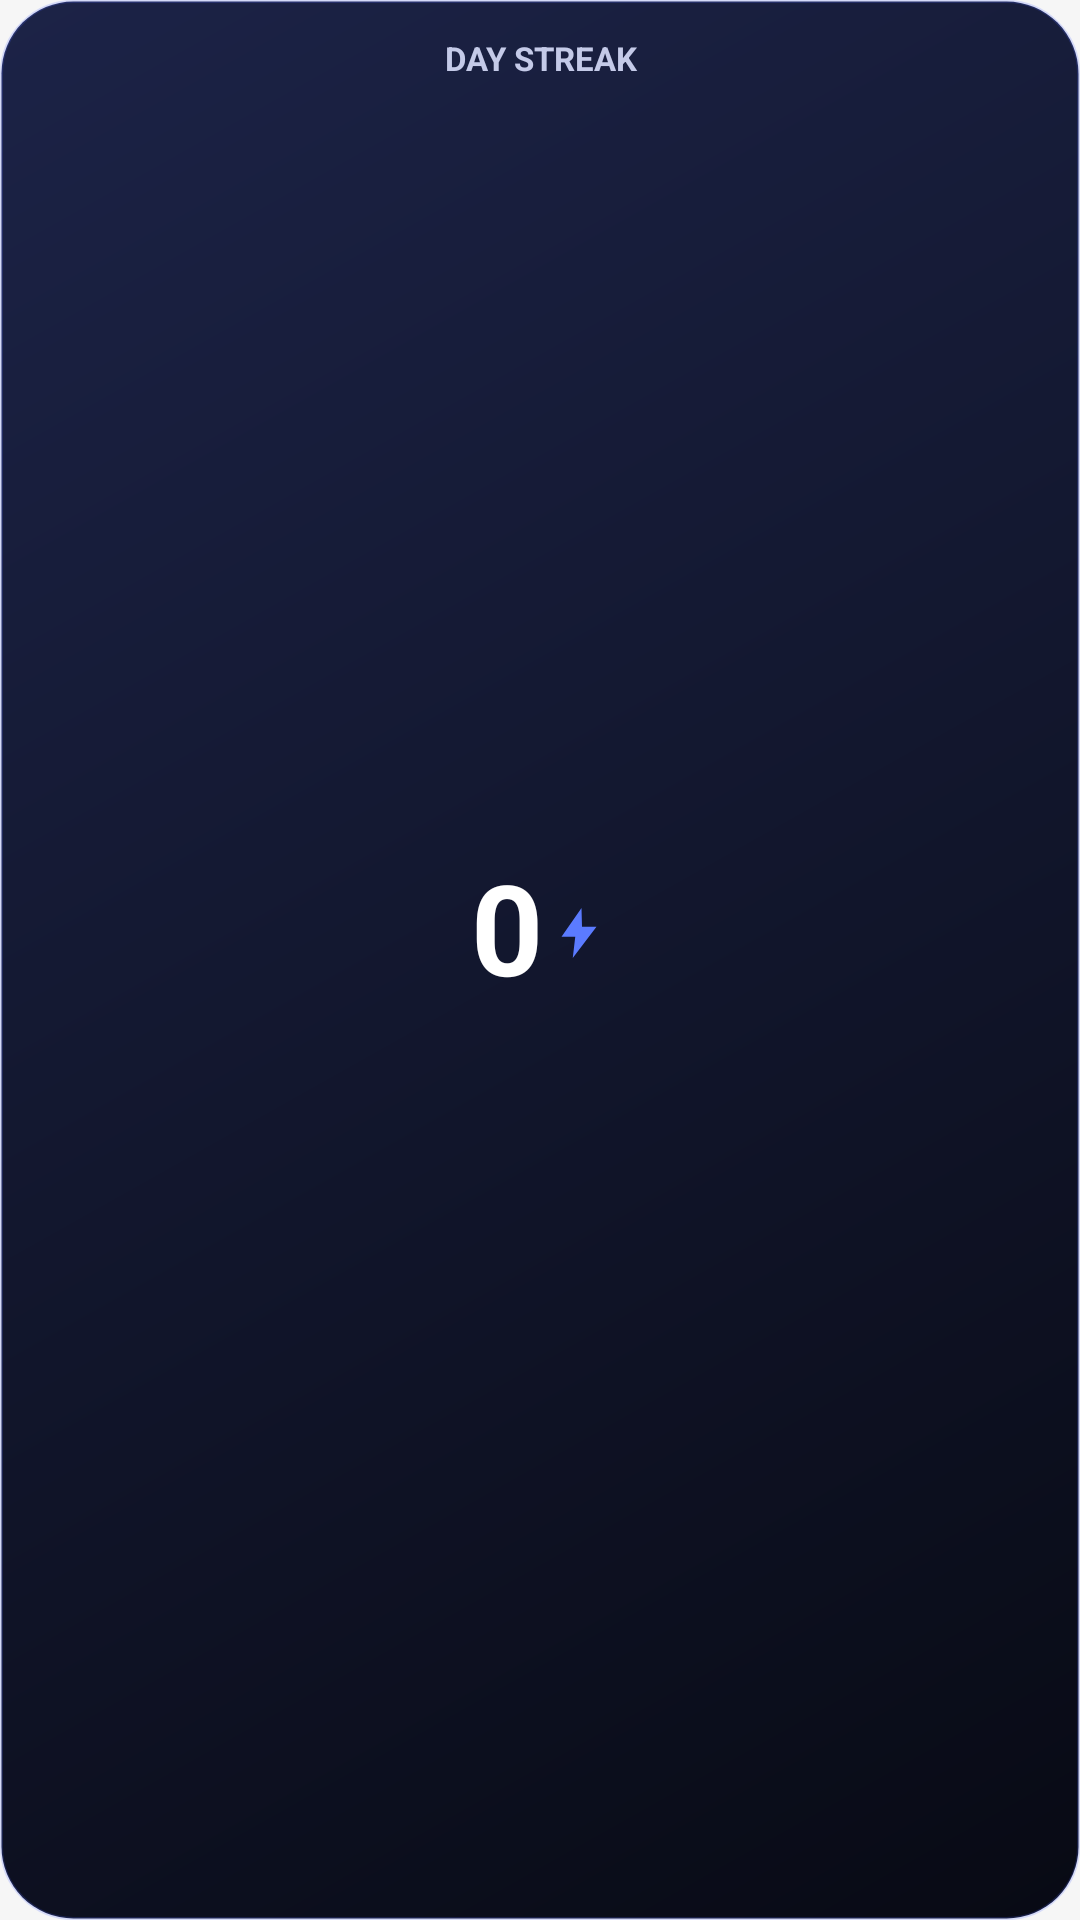

Named icons in this screenshot (1080px x 1920px) and their centers, (x=x, y=y):
bolt: (x=578, y=933)
